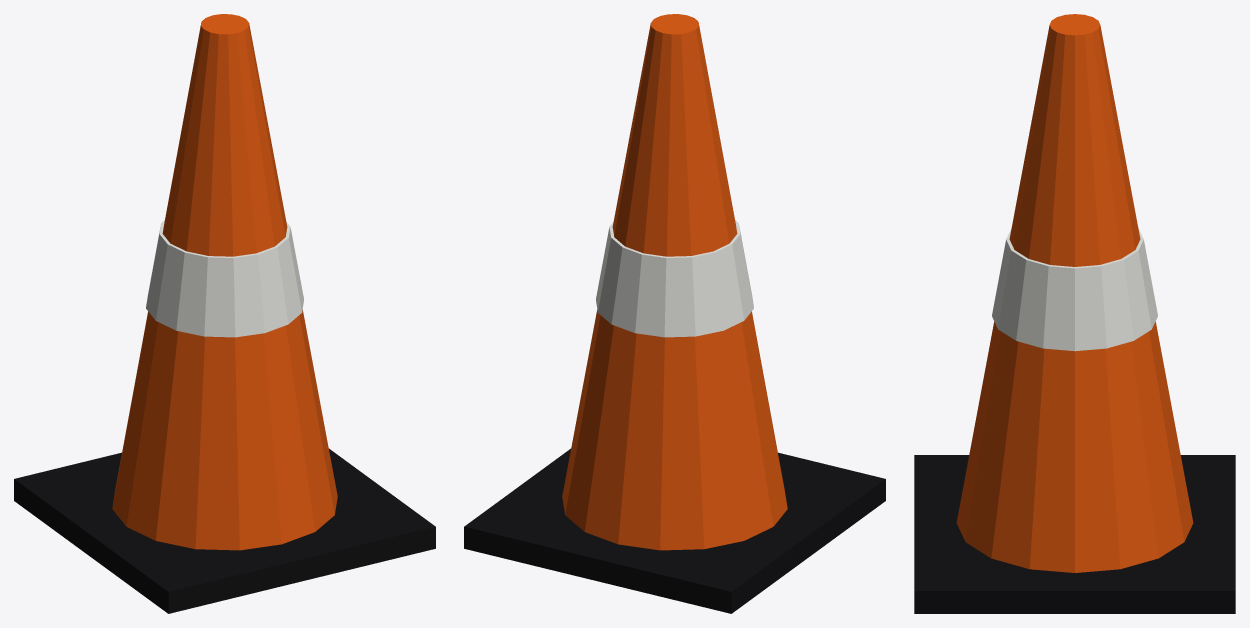
Rendered from Cono.obj.
3 renders of one model, left to right at view 1: azimuth 30°, elevation 25°; view 2: azimuth 150°, elevation 25°; view 3: azimuth 270°, elevation 25°, orthographic. The views are drawn at different scales.
Visible parts, largest first — view 1: Cono; view 2: Cono; view 3: Cono.
Boxes of the visible parts, x1,y1,x2,y2 form: Cono: (14, 14, 435, 613); Cono: (464, 14, 885, 613); Cono: (914, 14, 1235, 613).
Bounding box in the file's own units: 0.38 × 0.68 × 0.38.
